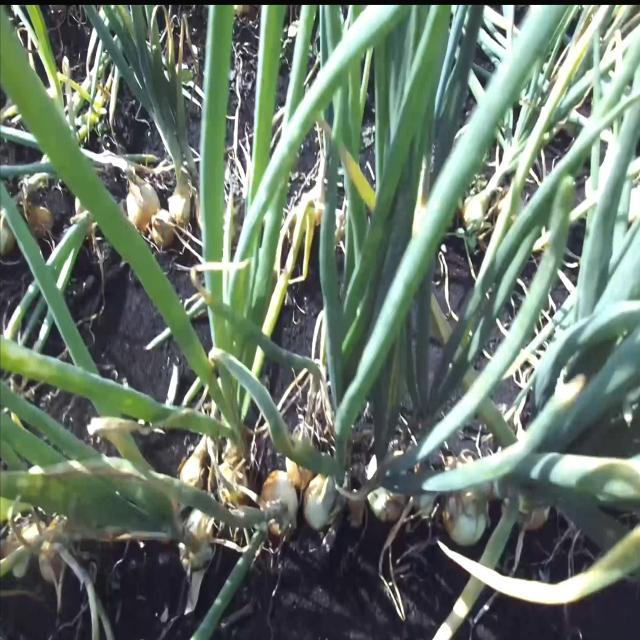onion: (444, 472, 486, 550), (284, 419, 317, 489), (260, 472, 296, 534), (128, 185, 156, 233), (169, 187, 192, 229)
